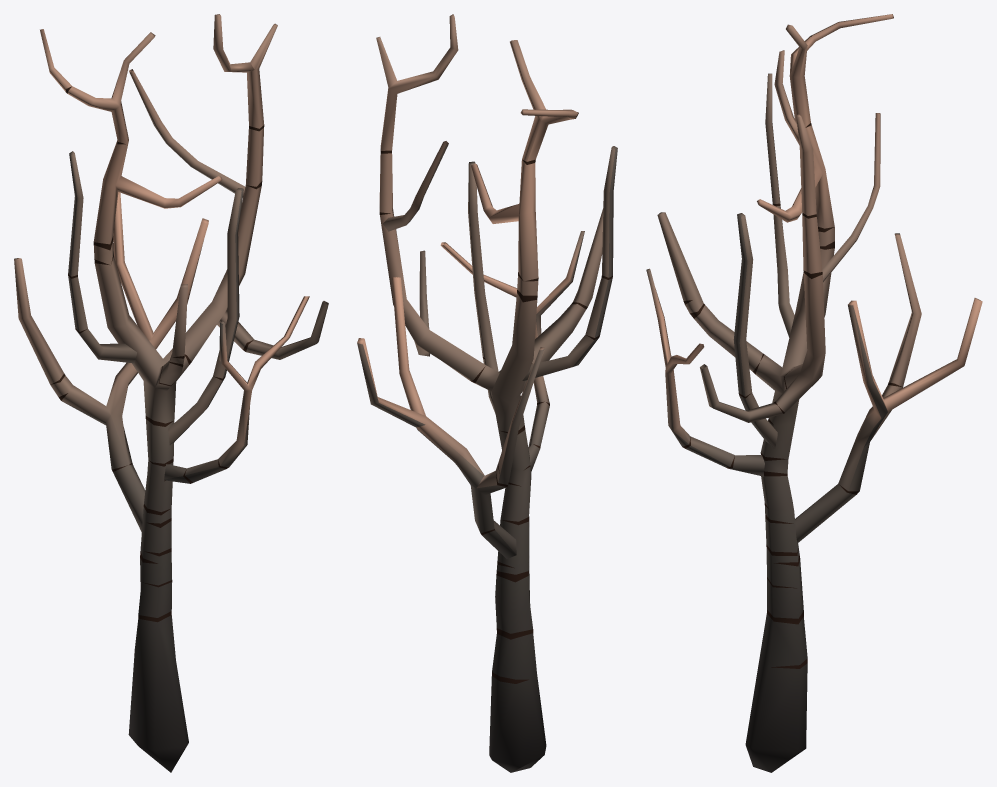
The model's file is Dry_Tree_2B.fbx.
3 views of the same model, side by side, from view 1: azimuth 30°, elevation 25°; view 2: azimuth 150°, elevation 25°; view 3: azimuth 270°, elevation 25° (orthographic). The views are drawn at different scales.
Parts seen in each view (by area): view 1: Dry_Tree_2B; view 2: Dry_Tree_2B; view 3: Dry_Tree_2B.
Part boxes in pixels (x1,y1,x2,y2): Dry_Tree_2B: [14, 14, 328, 772]; Dry_Tree_2B: [357, 14, 617, 772]; Dry_Tree_2B: [646, 14, 982, 772].
Bounding box in the file's own units: 448 × 1392 × 568.
